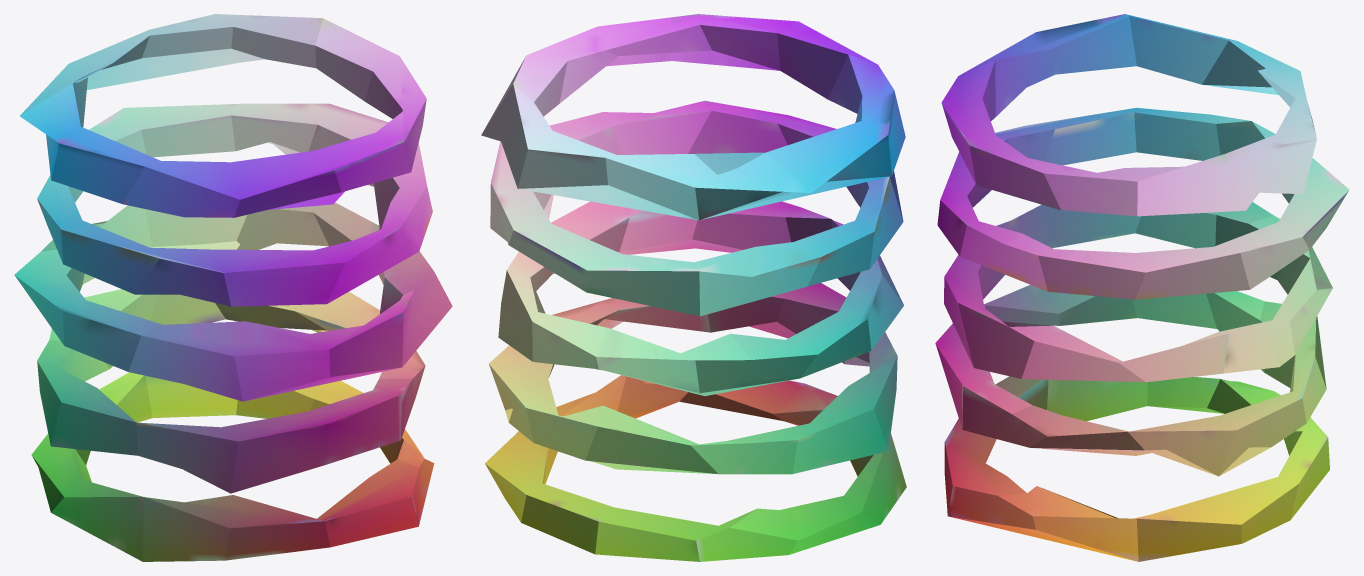
File: cylinder_tool.glb
3 renders of one model, left to right at view 1: azimuth 30°, elevation 25°; view 2: azimuth 150°, elevation 25°; view 3: azimuth 270°, elevation 25°, orthographic. The views are drawn at different scales.
Visible parts, largest first — view 1: Cylinder; view 2: Cylinder; view 3: Cylinder.
Part boxes in pixels (x1=…): Cylinder: x1=14, y1=14, x2=452, y2=561; Cylinder: x1=481, y1=14, x2=906, y2=561; Cylinder: x1=935, y1=14, x2=1349, y2=561.
Bounding box in the file's own units: 2.2 × 2.29 × 2.16.
1 material, 1 textured.
